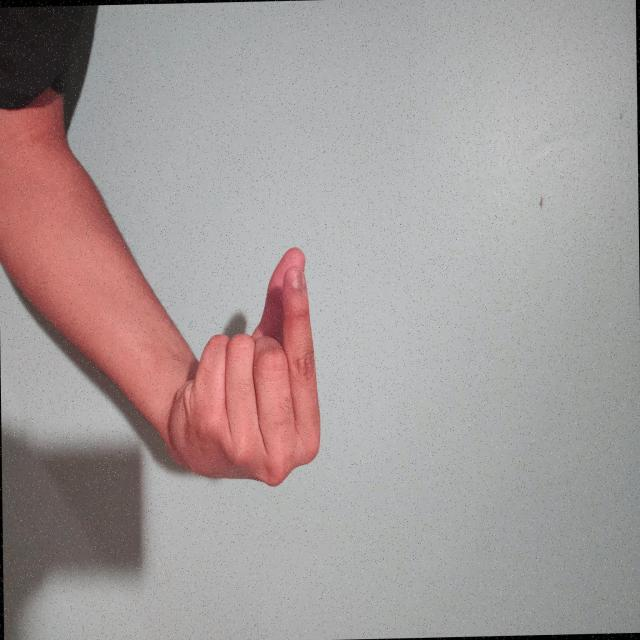G: (304, 375, 566, 640)
